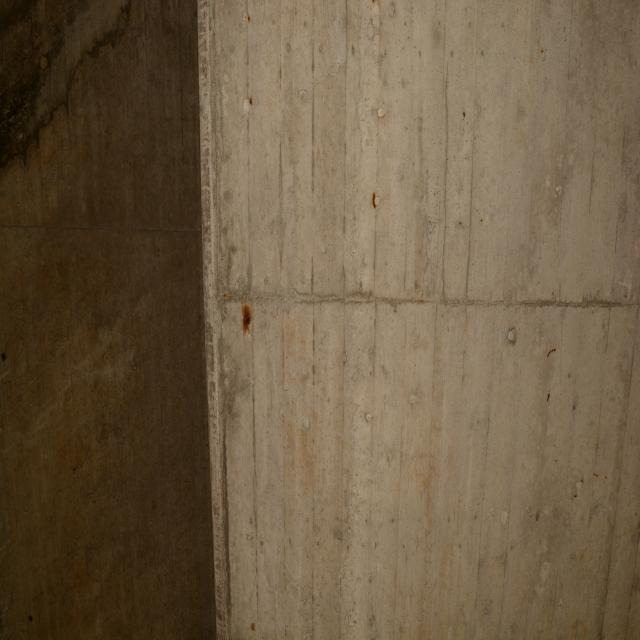corrosion: (568, 470, 608, 505), (236, 300, 258, 342), (246, 560, 258, 633), (545, 344, 557, 360), (371, 191, 379, 210), (545, 387, 551, 406), (248, 93, 255, 108), (220, 293, 231, 300), (246, 14, 252, 25), (479, 218, 486, 227), (462, 110, 468, 120), (477, 503, 479, 507)
